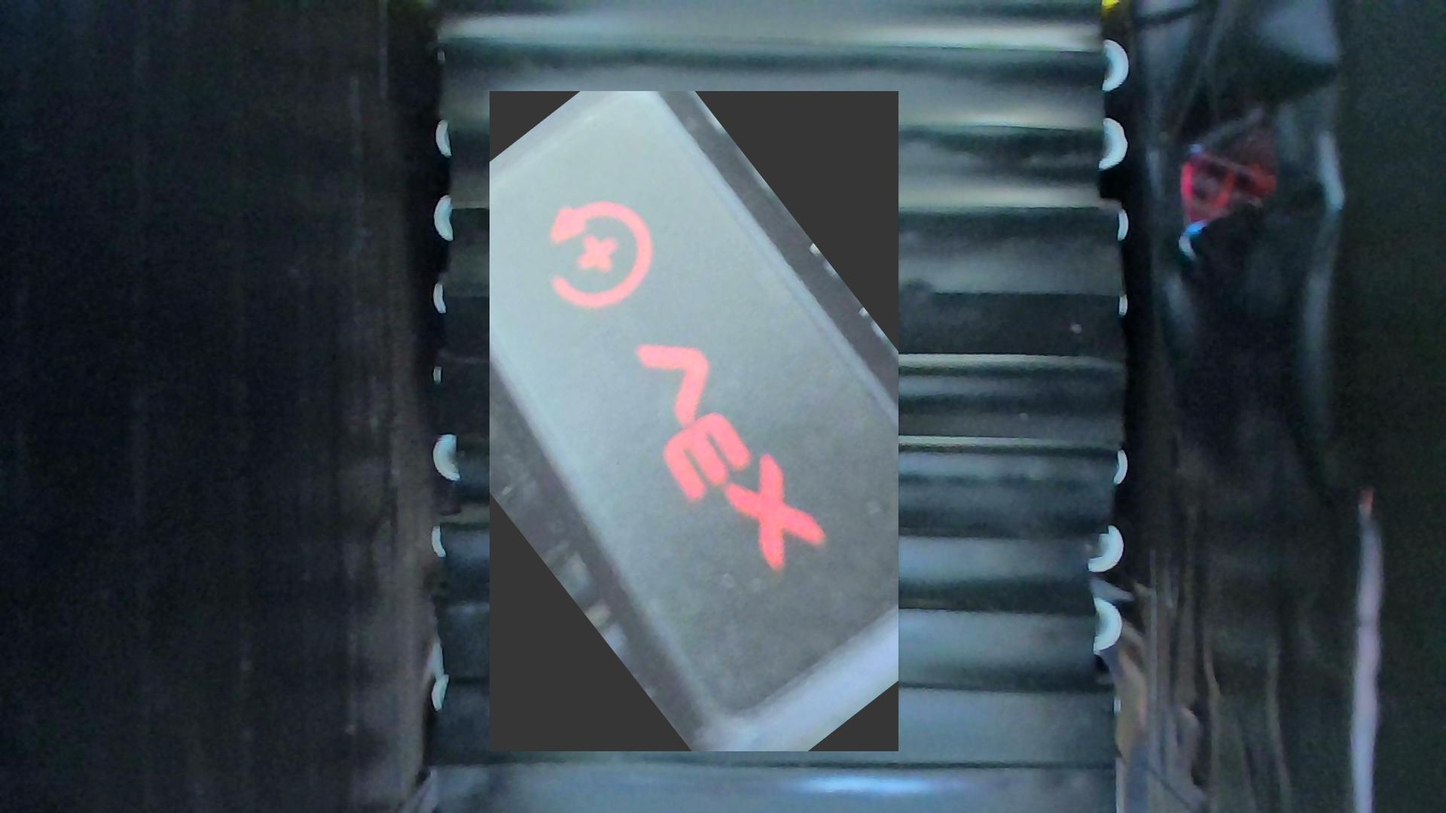motor: (490, 91, 898, 751)
